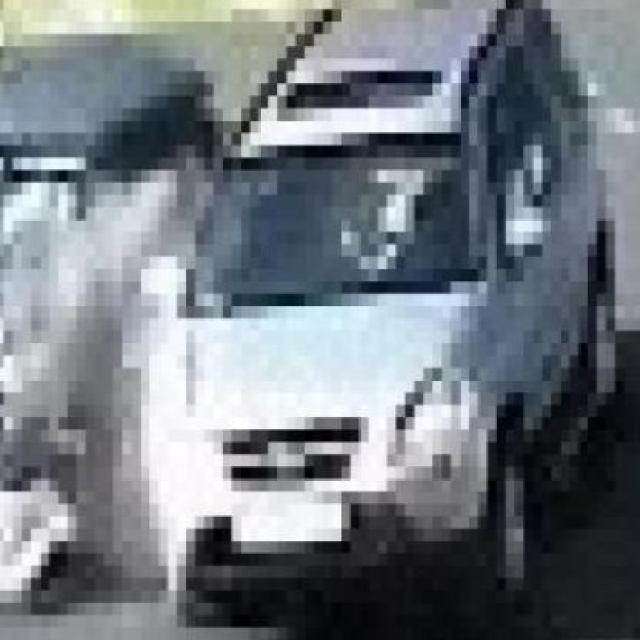accident: (0, 22, 611, 640)
